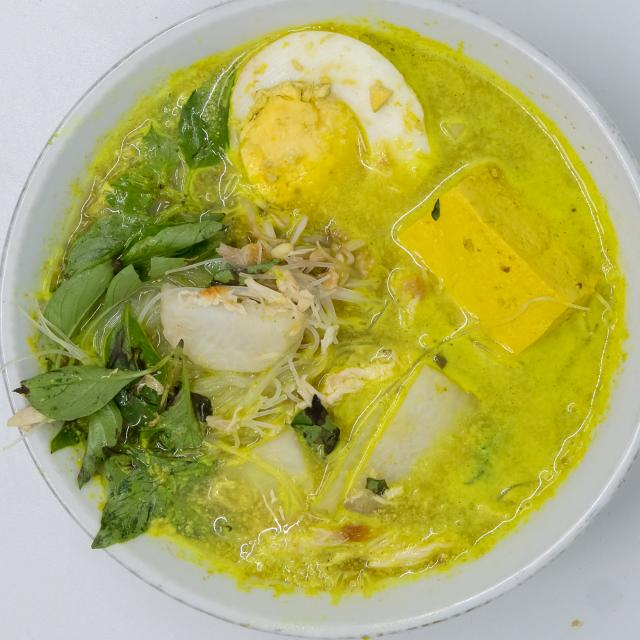Laksa-Bogor: (30, 18, 630, 600)
